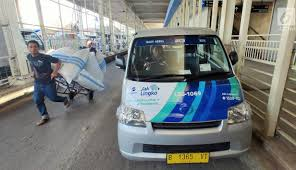plate: (166, 153, 209, 163)
